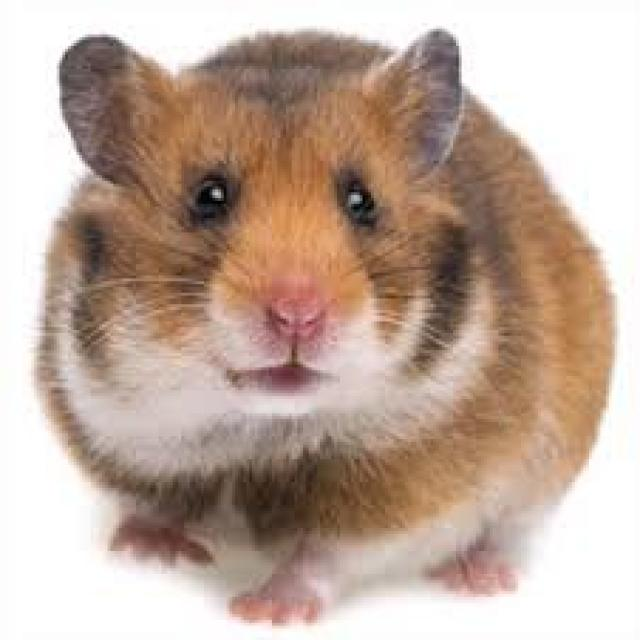hamster: (66, 87, 566, 590)
